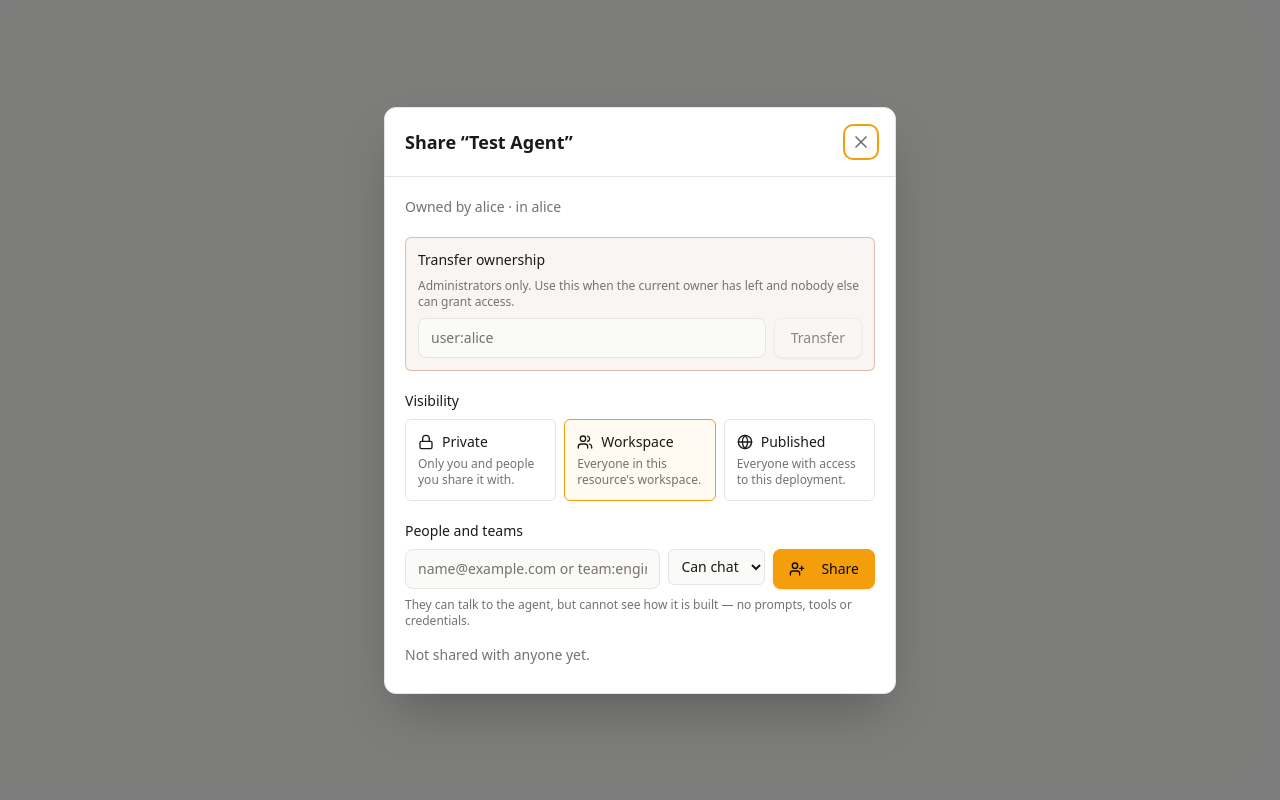
Scenario: ShareDialog › names what it declined to touch, rather than reporting a clean success
Type "bob" into the field with test id "share-subject-input" at {"x": 533, "y": 568}, box [405,548,660,588]
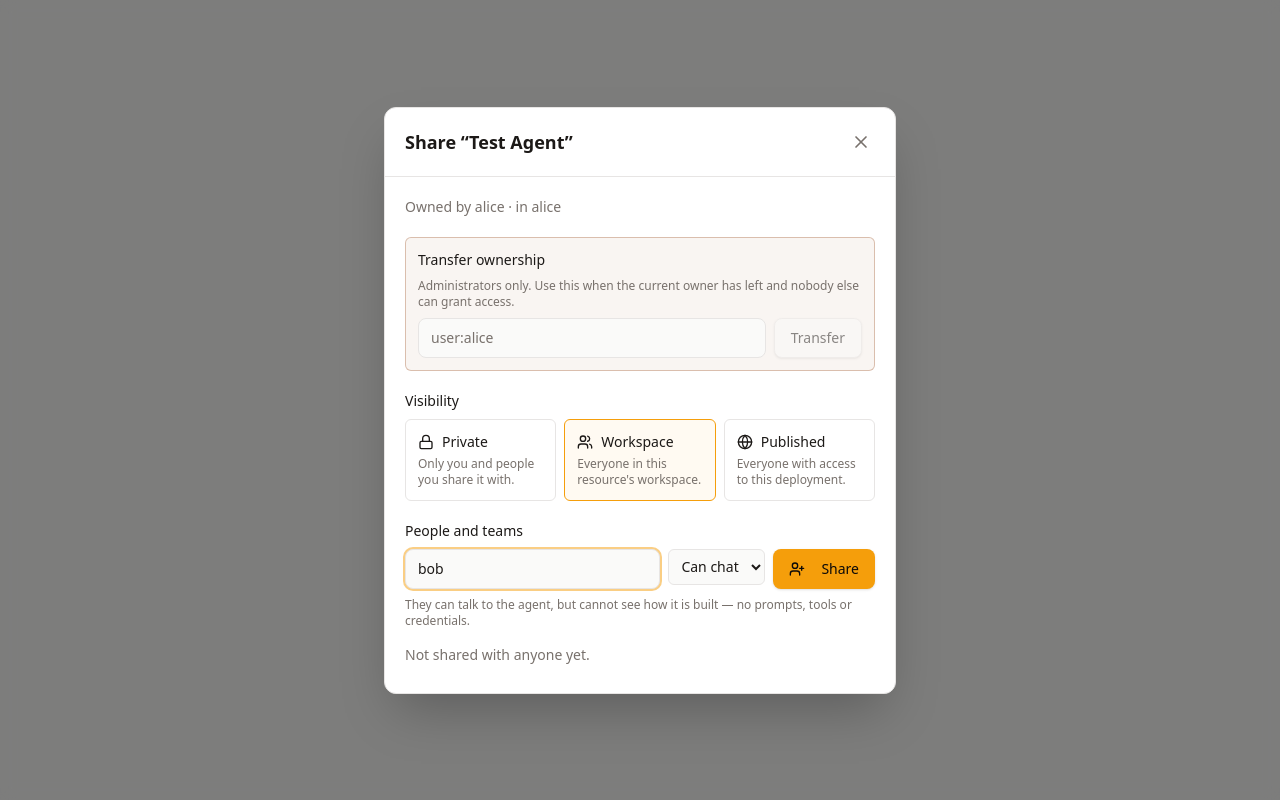
Click the button with test id "share-submit" at {"x": 824, "y": 568}, box [773,548,875,588]
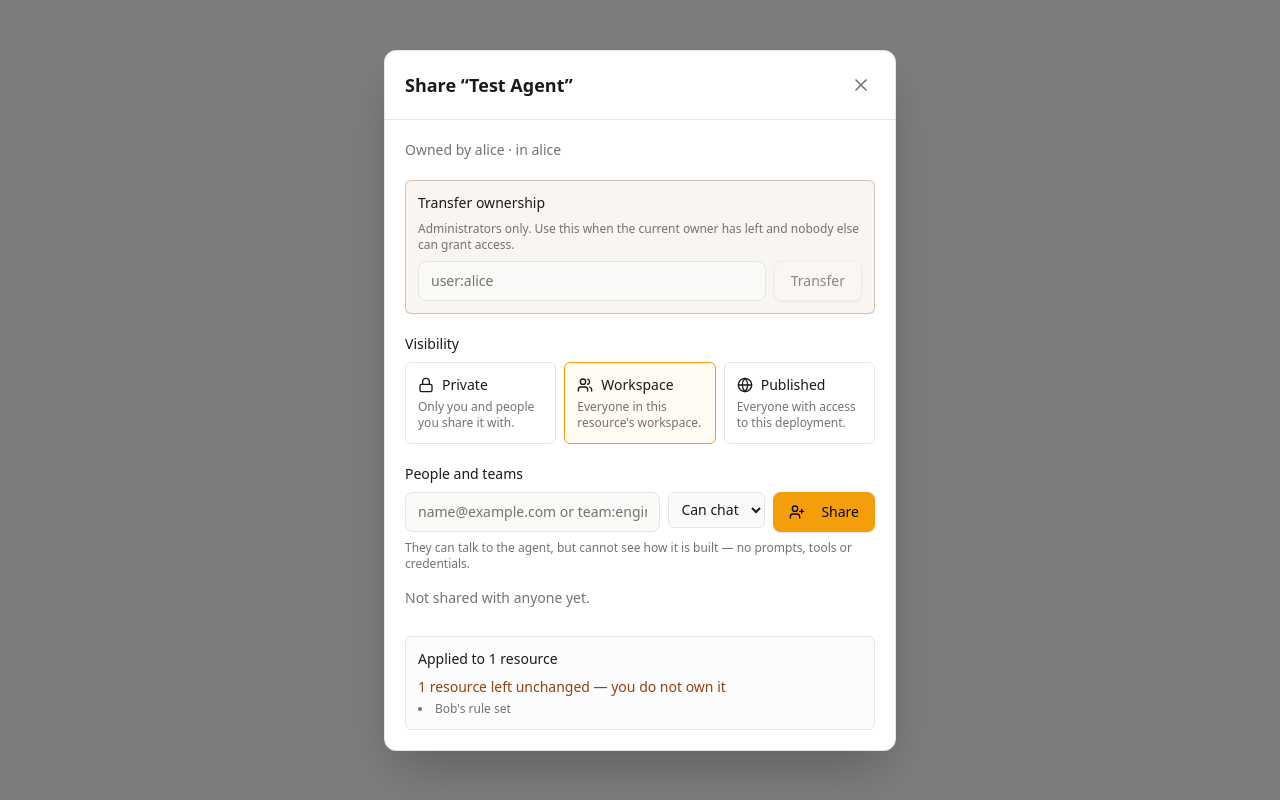
Expected: the element with test id "share-cascade-summary" is shown, [405,636,875,730]
Expected: the list item "Bob's rule set" is shown, [435,700,511,716]
Expected: the text "1 resource left unchanged — you do not own it" is shown, [418,676,726,696]
